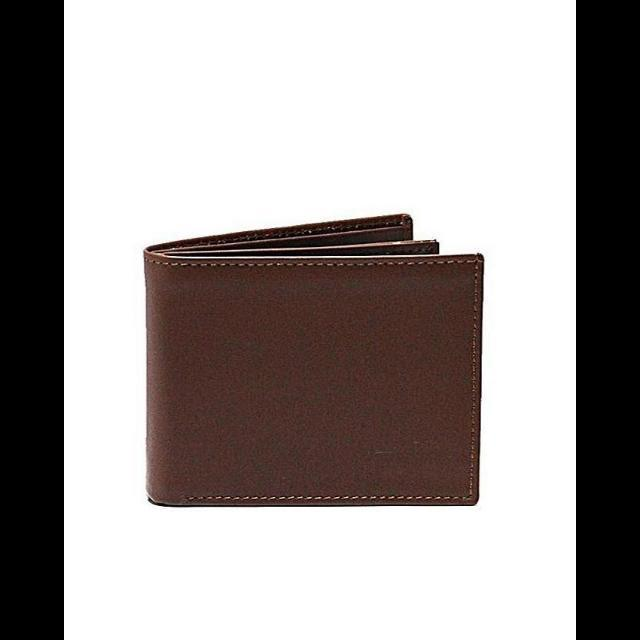wallet: (136, 211, 487, 515)
